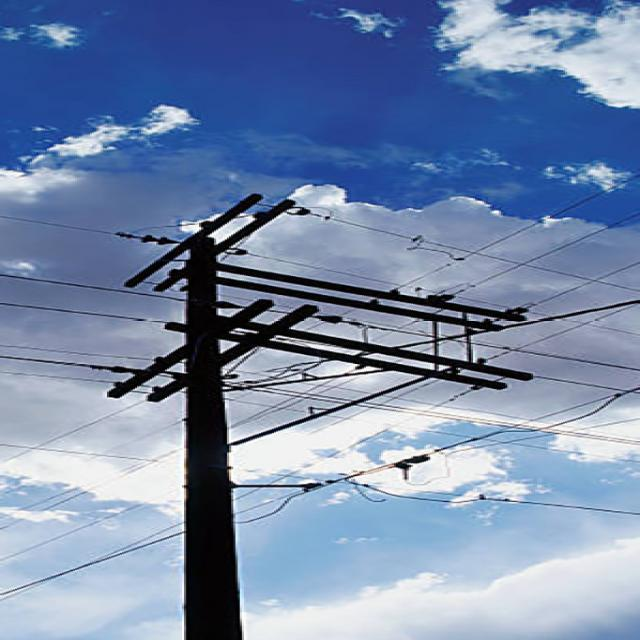pole: (76, 190, 546, 634)
